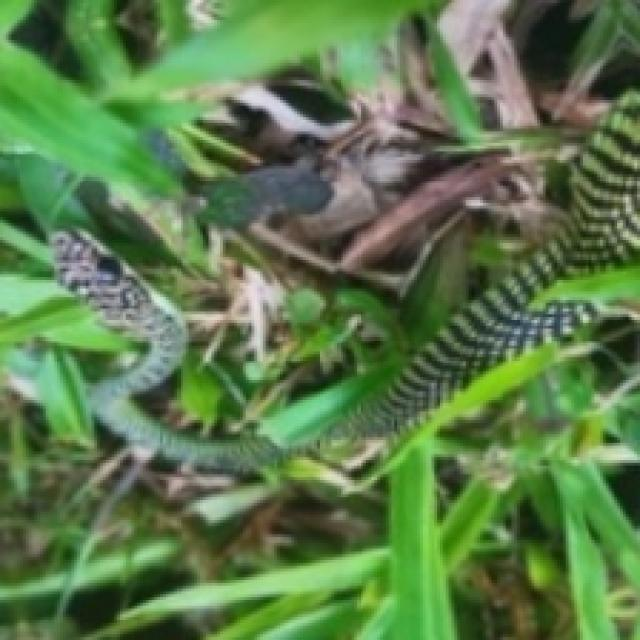paradise tree snake: (29, 0, 637, 477), (223, 17, 451, 137)
